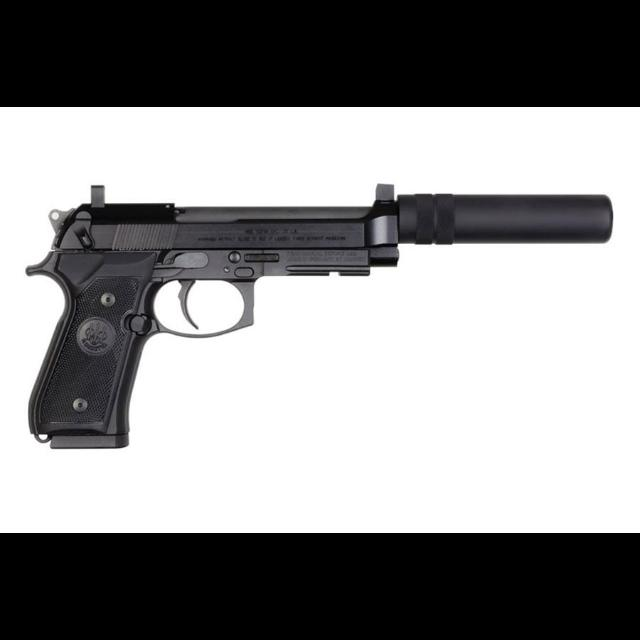handgun: (22, 180, 410, 458)
